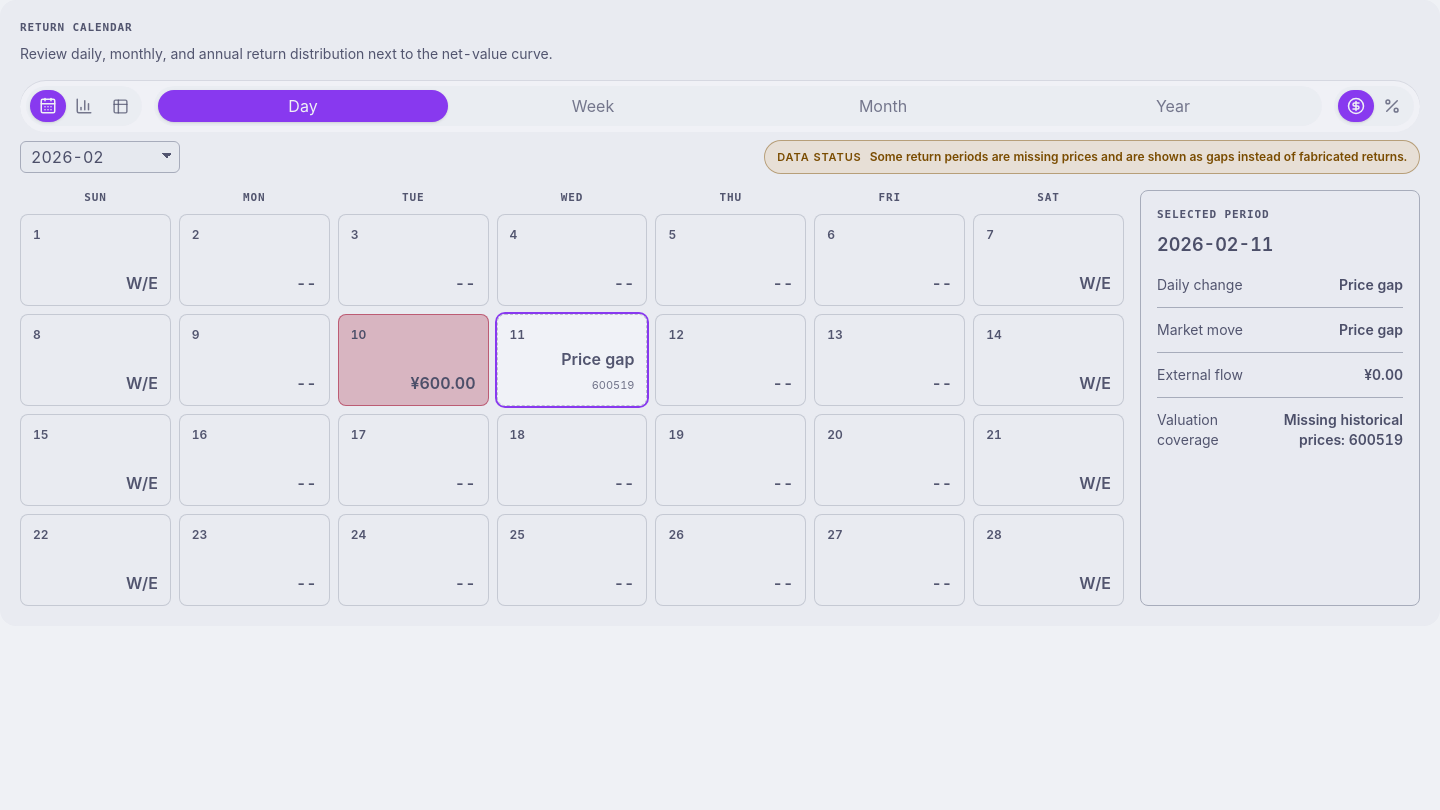
Test: switches the return calendar between monthly days, yearly months, and years
This screenshot has width=1440, height=810.
Click the button "Week" at (593, 106), box [448, 90, 738, 122]
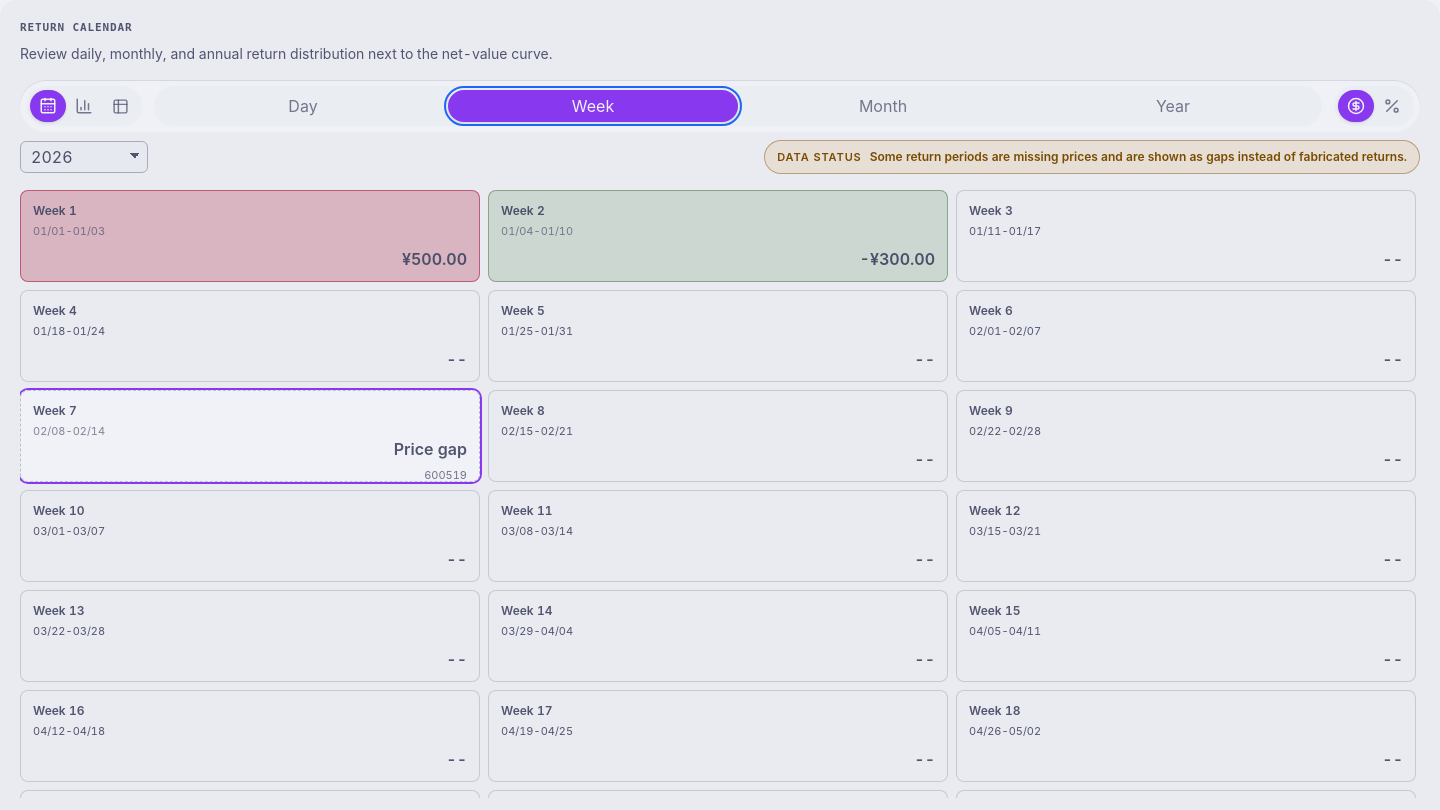
Now the text "Week 1" is shown, box [33, 203, 77, 219]
Now the text "01/01-01/03" is shown, box [33, 223, 105, 239]
Now the text "02/08-02/14" is shown, box [33, 423, 105, 439]
Click the button "Month" at (883, 106), box [738, 90, 1028, 122]
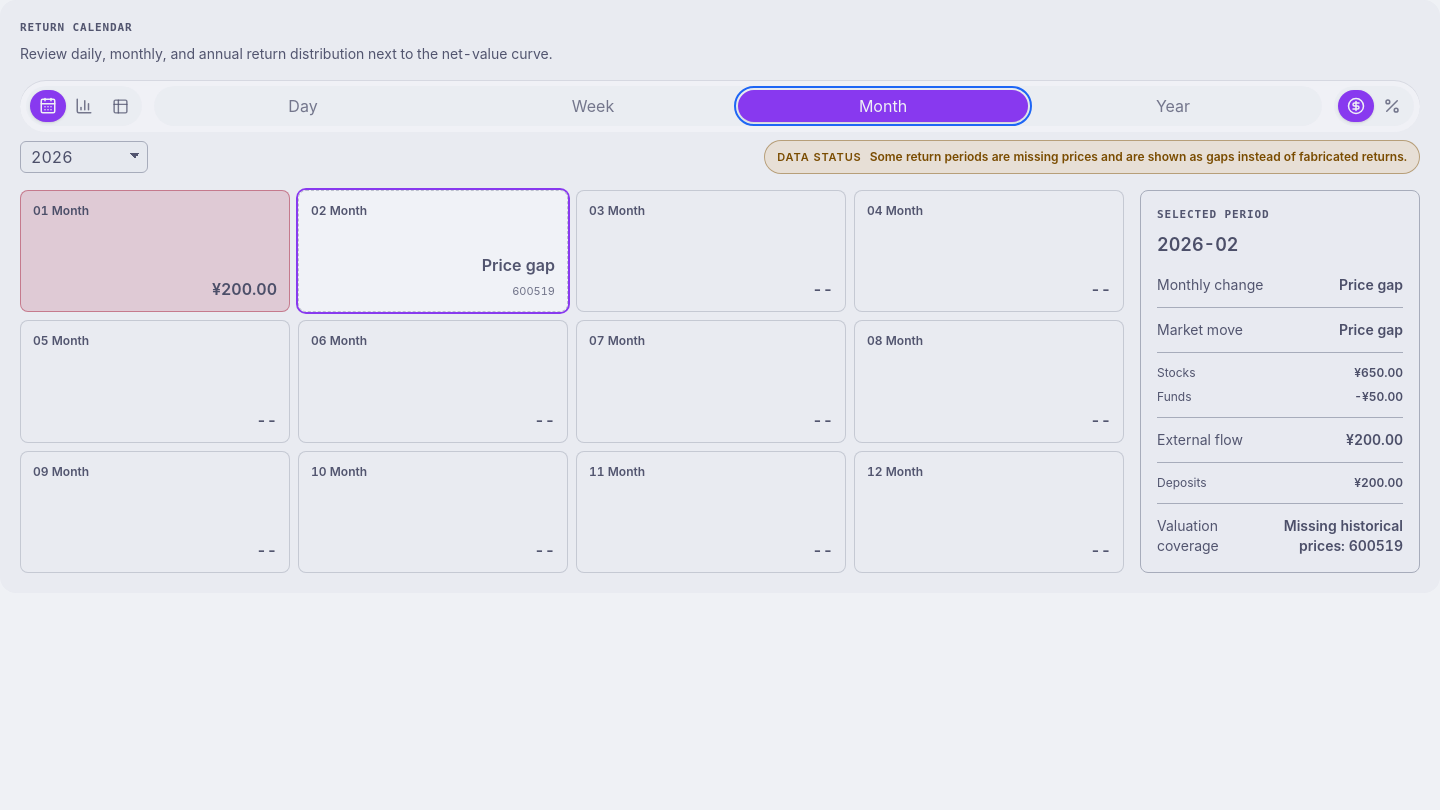
Now the text "01 Month" is shown, box [33, 203, 89, 219]
Now the 1st text with test id "return-calendar-cell-value" reads "¥200.00", box [212, 279, 277, 299]
Now the button with aria-label "2026-01 · ¥200.00" is shown, box [20, 190, 290, 312]
Click the button "Year" at (1173, 106), box [1028, 90, 1318, 122]
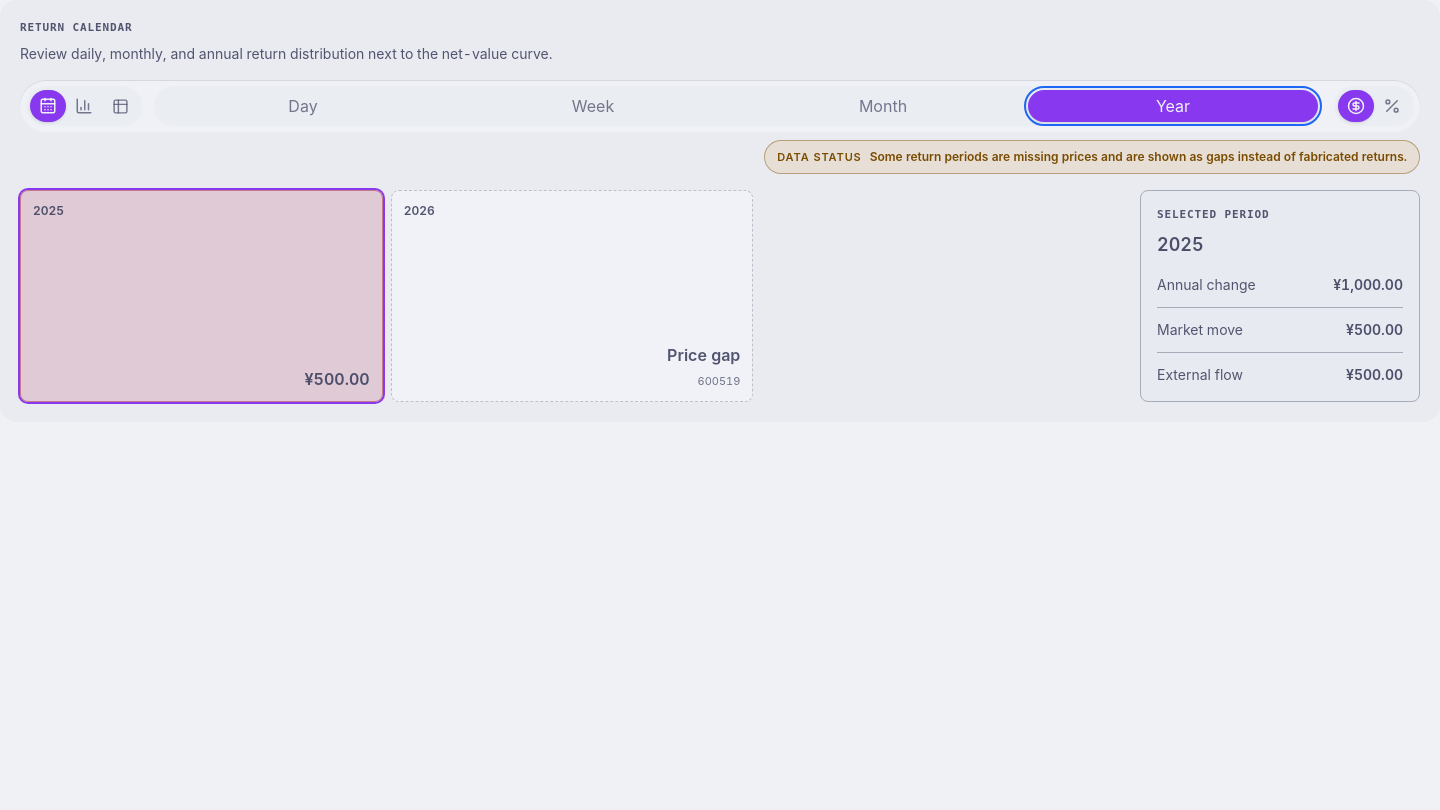
Now the button with aria-label "2026 · Price gap" is shown, box [391, 190, 753, 402]
Now the button named "2025 · ¥500.00" is shown, box [20, 190, 383, 402]
Now the text "Annual change" is shown, box [1157, 275, 1256, 295]
